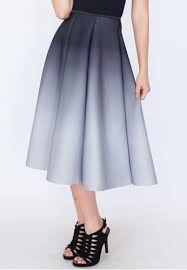C_skirt: (20, 7, 169, 200)
